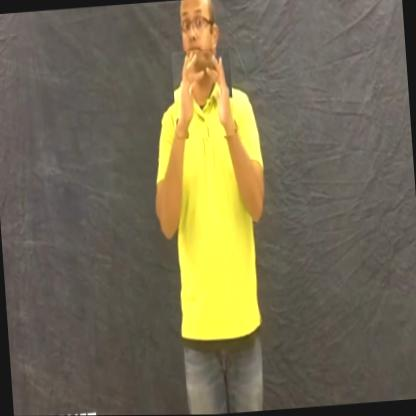Internet: (171, 48, 235, 140)
